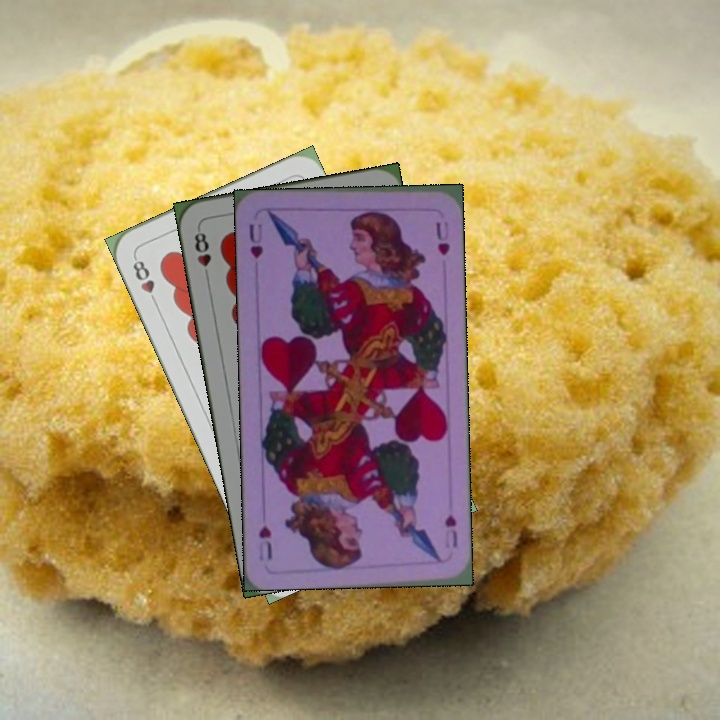H8: (128, 252, 161, 308), (190, 224, 214, 283)
HU: (245, 219, 266, 262), (440, 511, 460, 551)
